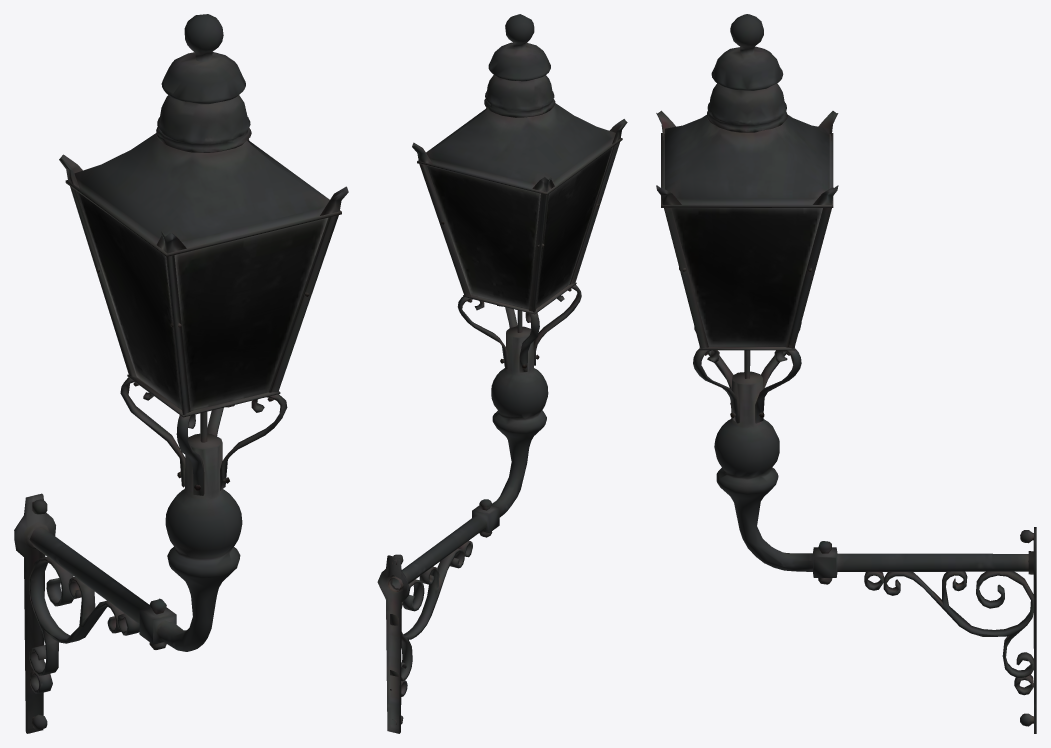
Rendered from street_lamp_02.glb.
3 views of the same model, side by side, from view 1: azimuth 30°, elevation 25°; view 2: azimuth 150°, elevation 25°; view 3: azimuth 270°, elevation 25° (orthographic). The views are drawn at different scales.
Parts seen in each view (by area): view 1: street_lamp_02; view 2: street_lamp_02; view 3: street_lamp_02.
Boxes of the visible parts, x1,y1,x2,y2 form: street_lamp_02: (14,14,348,733); street_lamp_02: (377,14,627,733); street_lamp_02: (656,14,1036,733).
Size of the model in its own units: 0.3862 by 1.67 by 0.8067.
Materials: 2 (2 with a texture image).
